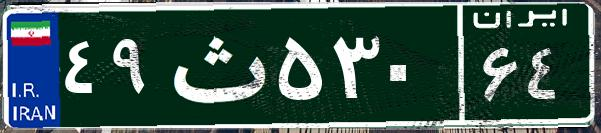0: (385, 28, 445, 110)
3: (330, 28, 385, 110)
4: (57, 26, 110, 107), (525, 38, 570, 115)
5: (273, 28, 330, 110)
6: (475, 38, 525, 113)
9: (110, 28, 158, 105)
ث: (158, 15, 273, 115)
